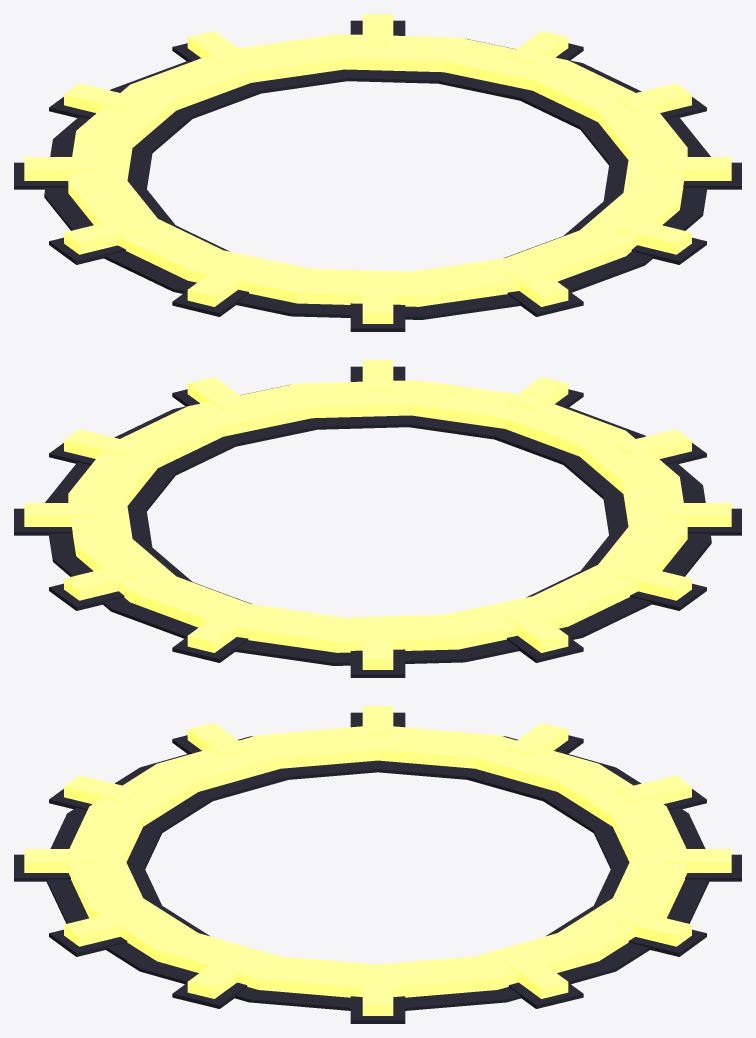
Rendered from fx_wait_ring_day.glb.
3 views of the same model, one above another, from view 1: azimuth 30°, elevation 25°; view 2: azimuth 150°, elevation 25°; view 3: azimuth 270°, elevation 25° (orthographic).
Parts seen in each view (by area): view 1: fx_wait_ring_day; view 2: fx_wait_ring_day; view 3: fx_wait_ring_day.
Part boxes in pixels (x1,y1,x2,y2): fx_wait_ring_day: (14,14,741,331); fx_wait_ring_day: (14,360,741,677); fx_wait_ring_day: (14,706,741,1023).
Bounding box in the file's own units: 2.12 × 0.05 × 2.12.
